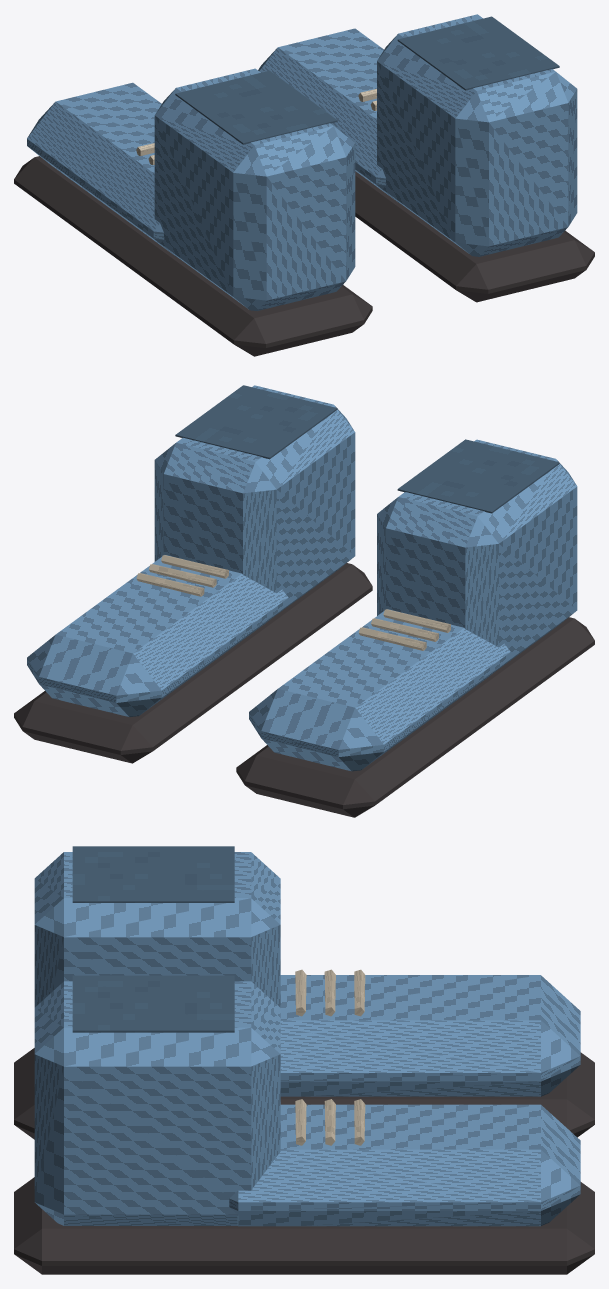
The model's file is boots_denim.glb.
3 renders of one model, top to bottom at view 1: azimuth 30°, elevation 25°; view 2: azimuth 150°, elevation 25°; view 3: azimuth 270°, elevation 25°, orthographic. The views are drawn at different scales.
Parts seen in each view (by area): view 1: block_shaft (×2), block_shaped sole (×2), block_vamp and toe (×2), block_opening (×2); view 2: block_shaft (×2), block_vamp and toe (×2), block_shaped sole (×2), block_opening (×2), block_lace (×6); view 3: block_shaft (×2), block_vamp and toe (×2), block_shaped sole (×2), block_opening (×2).
Part boxes in pixels (x1,y1,x2,y2): block_shaft (×2): [154, 14, 577, 310]; block_shaped sole (×2): [14, 156, 594, 356]; block_vamp and toe (×2): [27, 28, 398, 256]; block_opening (×2): [175, 16, 559, 144]; block_shaft (×2): [154, 385, 577, 670]; block_vamp and toe (×2): [27, 555, 510, 771]; block_shaped sole (×2): [14, 563, 594, 817]; block_opening (×2): [175, 385, 559, 513]; block_lace (×6): [136, 555, 450, 650]; block_shaft (×2): [34, 852, 280, 1225]; block_vamp and toe (×2): [229, 975, 580, 1226]; block_shaped sole (×2): [14, 1048, 594, 1274]; block_opening (×2): [72, 846, 234, 1032].
Bounding box in the file's own units: 0.2446 × 0.1317 × 0.2856.
Materials: 1 (1 with a texture image).
